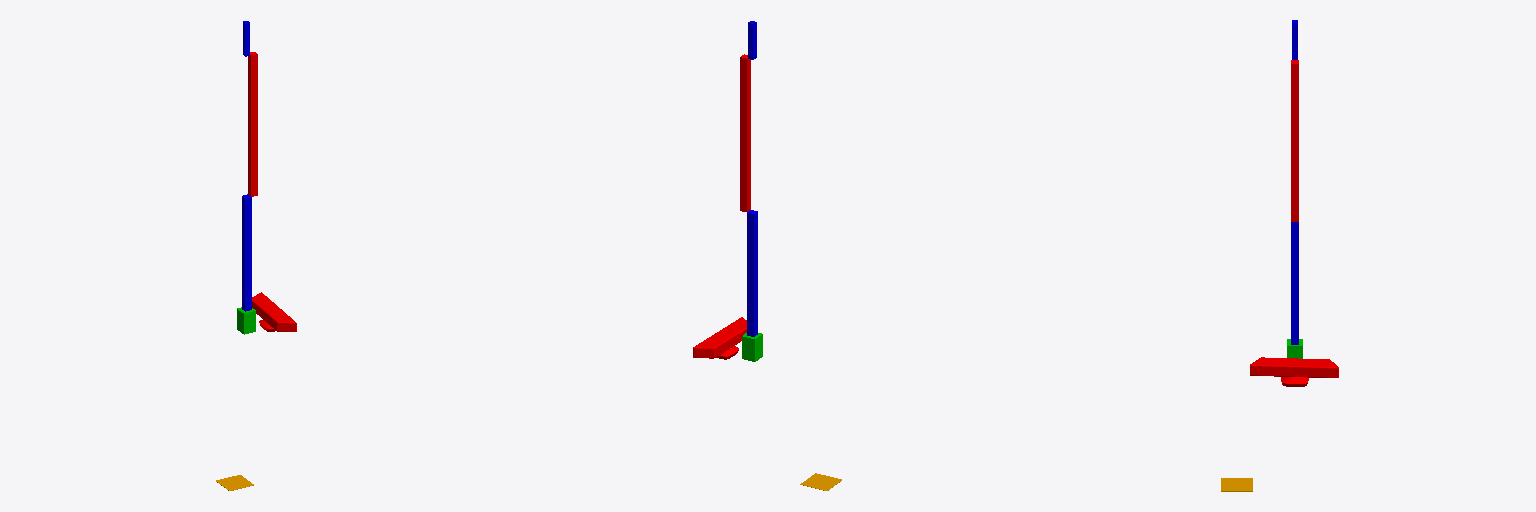
The robot description file, URDF, robot "floatinghead_model":
<?xml version="1.0" ?>
<!-- =================================================================================== -->
<!-- |    This document was autogenerated by xacro from floatinghead_overall.xacro     | -->
<!-- |    EDITING THIS FILE BY HAND IS NOT RECOMMENDED                                 | -->
<!-- =================================================================================== -->
<robot name="floatinghead_model" xmlns:xacro="http://www.ros.org/wiki/xacro">
  <material name="blue1">
    <color rgba="0 0 0.8 1"/>
  </material>
  <!-- <xacro:include filename = "Arm_URDF.xacro" ns="arm"/> -->
  <!-- root link, on the ground just below the model origin -->
  <link name="base_footprint">
    <visual>
      <origin rpy="0 0 0" xyz="0 0 0"/>
      <geometry>
        <box size="0.1 0.1 0.001"/>
      </geometry>
    </visual>
  </link>
  <joint name="base_link_joint" type="fixed">
    <!-- <origin xyz="0.0 0 1.25" rpy="0 0 0" /> -->
    <origin rpy="0 0 0" xyz="0.0 0 0"/>
    <parent link="base_footprint"/>
    <child link="base_link"/>
  </joint>
  <!-- the model -->
  <link name="base_link">
    <inertial>
      <mass value="50"/>
      <!-- <origin xyz="0 0 -1.25" /> -->
      <origin xyz="0 0 0"/>
      <inertia ixx="50.0" ixy="0.0" ixz="0.0" iyy="50.0" iyz="0.0" izz="50.0"/>
    </inertial>
    <visual>
      <geometry>
        <mesh filename="package://floatinghead_description/meshes/OD.dae"/>
      </geometry>
    </visual>
    <collision>
      <origin xyz="0.0 0.0 0"/>
      <geometry>
        <box size="0.9 0.23 .74"/>
      </geometry>
    </collision>
  </link>
  <gazebo reference="base_link">
    <!-- kp and kd for rubber -->
    <kp>1000000.0</kp>
    <kd>100.0</kd>
    <mu1>1.5</mu1>
    <mu2>1.5</mu2>
    <fdir1>1 0 0</fdir1>
    <maxVel>1.0</maxVel>
    <minDepth>0.00</minDepth>
  </gazebo>
  <joint name="camera_joint" type="fixed">
    <axis xyz="0 1 0"/>
    <origin rpy="0 0 0" xyz="0.25 0.18 0.5"/>
    <parent link="base_link"/>
    <child link="camera_link"/>
  </joint>
  <!-- Camera -->
  <link name="camera_link">
    <collision>
      <origin rpy="0 0 0" xyz="0 0 0"/>
      <geometry>
        <box size=".1 .1 .1"/>
      </geometry>
    </collision>
    <visual>
      <origin rpy="0 0 1.5" xyz="0 0 0"/>
      <geometry>
        <mesh filename="package://floatinghead_description/meshes/kinect.dae"/>
      </geometry>
      <material name="red"/>
    </visual>
    <inertial>
      <mass value="1e-5"/>
      <origin rpy="0 0 0" xyz="0 0 0"/>
      <inertia ixx="1e-6" ixy="0" ixz="0" iyy="1e-6" iyz="0" izz="1e-6"/>
    </inertial>
  </link>
  <gazebo>
    <plugin filename="libgazebo_ros_planar_move.so" name="object_controller">
      <commandTopic>cmd_vel</commandTopic>
      <odometryTopic>odom</odometryTopic>
      <odometryFrame>odom</odometryFrame>
      <odometryRate>20.0</odometryRate>
      <robotBaseFrame>base_footprint</robotBaseFrame>
    </plugin>
  </gazebo>
  <gazebo reference="camera_link">
    <sensor name="camera1" type="camera">
      <update_rate>30.0</update_rate>
      <camera name="head">
        <horizontal_fov>1.3962634</horizontal_fov>
        <image>
          <width>800</width>
          <height>800</height>
          <format>R8G8B8</format>
        </image>
        <clip>
          <near>0.02</near>
          <far>300</far>
        </clip>
        <noise>
          <type>gaussian</type>
          <!-- Noise is sampled independently per pixel on each frame.
               That pixel's noise value is added to each of its color
               channels, which at that point lie in the range [0,1]. -->
          <mean>0.0</mean>
          <stddev>0.007</stddev>
        </noise>
      </camera>
      <plugin filename="libgazebo_ros_camera.so" name="camera_controller">
        <alwaysOn>true</alwaysOn>
        <updateRate>0.0</updateRate>
        <cameraName>floatinghead/camera1</cameraName>
        <imageTopicName>image_raw</imageTopicName>
        <cameraInfoTopicName>camera_info</cameraInfoTopicName>
        <frameName>camera_link</frameName>
        <hackBaseline>0.07</hackBaseline>
        <distortionK1>0.0</distortionK1>
        <distortionK2>0.0</distortionK2>
        <distortionK3>0.0</distortionK3>
        <distortionT1>0.0</distortionT1>
        <distortionT2>0.0</distortionT2>
      </plugin>
    </sensor>
  </gazebo>
  <joint name="laser_joint" type="fixed">
    <axis xyz="0 0 0"/>
    <origin rpy="0 0 0" xyz="0.35 0.18 0.48"/>
    <parent link="base_link"/>
    <child link="laser_link"/>
  </joint>
  <link name="laser_link">
    <collision>
      <origin rpy="0 0 0" xyz="0 0 0"/>
      <geometry>
        <sphere radius=".2"/>
      </geometry>
    </collision>
    <visual>
      <origin rpy="0 0 0" xyz="0 0 0"/>
      <geometry>
        <mesh filename="package://floatinghead_description/meshes/lidar.dae"/>
      </geometry>
      <material name="red"/>
    </visual>
  </link>
  <gazebo reference="laser_link">
    <sensor name="head_hokuyo_sensor" type="gpu_ray">
      <pose>0 0 0 0 0 0</pose>
      <visualize>true</visualize>
      <update_rate>40</update_rate>
      <ray>
        <scan>
          <horizontal>
            <samples>720</samples>
            <resolution>1</resolution>
            <min_angle>-3.14159</min_angle>
            <max_angle>3.14159</max_angle>
          </horizontal>
        </scan>
        <range>
          <min>0.10</min>
          <max>30.0</max>
          <resolution>0.01</resolution>
        </range>
        <noise>
          <type>gaussian</type>
          <!-- Noise parameters based on published spec for Hokuyo laser
               achieving "+-30mm" accuracy at range < 10m.  A mean of 0.0m and
               stddev of 0.01m will put 99.7% of samples within 0.03m of the true
               reading. -->
          <mean>0.0</mean>
          <stddev>0.01</stddev>
        </noise>
      </ray>
      <plugin filename="libgazebo_ros_gpu_laser.so" name="gazebo_ros_head_hokuyo_controller">
        <visualize>true</visualize>
        <topicName>/scan</topicName>
        <frameName>laser_link</frameName>
      </plugin>
    </sensor>
  </gazebo>
  <joint name="sonic_joint" type="fixed">
    <axis xyz="0 0 0"/>
    <origin rpy="0 2.25 0" xyz="0.65 0.18 0.3"/>
    <parent link="base_link"/>
    <child link="sonic_link"/>
  </joint>
  <link name="sonic_link">
    <visual>
      <origin rpy="0 0 0" xyz="0 0 0"/>
      <geometry>
        <mesh filename="package://floatinghead_description/meshes/lidar.dae"/>
      </geometry>
    </visual>
  </link>
  <gazebo reference="sonic_link">
    <sensor name="ultrasonic" type="ray">
      <pose>0.25 0 0 0 0 0</pose>
      <update_rate>5</update_rate>
      <ray>
        <scan>
          <horizontal>
            <samples>5</samples>
            <resolution>1.0</resolution>
            <min_angle>-0.25</min_angle>
            <max_angle>0.25</max_angle>
          </horizontal>
          <vertical>
            <samples>5</samples>
            <resolution>1</resolution>
            <min_angle>-0.25</min_angle>
            <max_angle>0.25</max_angle>
          </vertical>
        </scan>
        <range>
          <min>0.01</min>
          <max>0.7</max>
          <resolution>0.01</resolution>
        </range>
      </ray>
      <plugin filename="libgazebo_ros_range.so" name="gazebo_ros_range">
        <gaussianNoise>0.005</gaussianNoise>
        <alwaysOn>true</alwaysOn>
        <updateRate>5</updateRate>
        <topicName>sonic</topicName>
        <frameName>sonic_link</frameName>
        <fov>0.5</fov>
        <radiation>ultrasound</radiation>
      </plugin>
    </sensor>
  </gazebo>
  <joint name="sonic_joint_2" type="fixed">
    <axis xyz="0 0 0"/>
    <origin rpy="0 2.25 1.5" xyz="0.15 0.32 0.25"/>
    <parent link="base_link"/>
    <child link="sonic_link_2"/>
  </joint>
  <link name="sonic_link_2">
    <visual>
      <origin rpy="0 0 0" xyz="0 0 0"/>
      <geometry>
        <mesh filename="package://floatinghead_description/meshes/lidar.dae"/>
      </geometry>
      <material name="red"/>
    </visual>
  </link>
  <gazebo reference="sonic_link_2">
    <sensor name="ultrasonic" type="ray">
      <pose>0.0 0.25 0 0 0 0</pose>
      <update_rate>5</update_rate>
      <ray>
        <scan>
          <horizontal>
            <samples>5</samples>
            <resolution>1.0</resolution>
            <min_angle>-0.25</min_angle>
            <max_angle>0.25</max_angle>
          </horizontal>
          <vertical>
            <samples>5</samples>
            <resolution>1</resolution>
            <min_angle>-0.25</min_angle>
            <max_angle>0.25</max_angle>
          </vertical>
        </scan>
        <range>
          <min>0.01</min>
          <max>0.7</max>
          <resolution>0.01</resolution>
        </range>
      </ray>
      <plugin filename="libgazebo_ros_range.so" name="gazebo_ros_range">
        <gaussianNoise>0.005</gaussianNoise>
        <alwaysOn>true</alwaysOn>
        <updateRate>5</updateRate>
        <topicName>sonic2</topicName>
        <frameName>sonic_link_2</frameName>
        <fov>0.5</fov>
        <radiation>ultrasound</radiation>
      </plugin>
    </sensor>
  </gazebo>
  <joint name="sonic_joint_3" type="fixed">
    <axis xyz="0 0 0"/>
    <origin rpy="0 2.25 -1.5" xyz="0.15 0.07 0.25"/>
    <parent link="base_link"/>
    <child link="sonic_link_3"/>
  </joint>
  <link name="sonic_link_3">
    <visual>
      <origin rpy="0 0 0" xyz="0 0 0"/>
      <geometry>
        <mesh filename="package://floatinghead_description/meshes/lidar.dae"/>
      </geometry>
      <material name="red"/>
    </visual>
  </link>
  <gazebo reference="sonic_link_3">
    <sensor name="ultrasonic" type="ray">
      <pose>0.0 0.25 0 0 0 0</pose>
      <update_rate>5</update_rate>
      <ray>
        <scan>
          <horizontal>
            <samples>5</samples>
            <resolution>1.0</resolution>
            <min_angle>-0.25</min_angle>
            <max_angle>0.25</max_angle>
          </horizontal>
          <vertical>
            <samples>5</samples>
            <resolution>1</resolution>
            <min_angle>-0.25</min_angle>
            <max_angle>0.25</max_angle>
          </vertical>
        </scan>
        <range>
          <min>0.01</min>
          <max>0.7</max>
          <resolution>0.01</resolution>
        </range>
      </ray>
      <plugin filename="libgazebo_ros_range.so" name="gazebo_ros_range">
        <gaussianNoise>0.005</gaussianNoise>
        <alwaysOn>true</alwaysOn>
        <updateRate>5</updateRate>
        <topicName>sonic3</topicName>
        <frameName>sonic_link_3</frameName>
        <fov>0.5</fov>
        <radiation>ultrasound</radiation>
      </plugin>
    </sensor>
  </gazebo>
  <joint name="sonic_joint_4" type="fixed">
    <axis xyz="0 0 0"/>
    <origin rpy="0 -2.25 0" xyz="-0.3 0.18 0.25"/>
    <parent link="base_link"/>
    <child link="sonic_link_4"/>
  </joint>
  <link name="sonic_link_4">
    <visual>
      <origin rpy="0 0 0" xyz="0 0 0"/>
      <geometry>
        <mesh filename="package://floatinghead_description/meshes/lidar.dae"/>
      </geometry>
      <material name="red"/>
    </visual>
  </link>
  <gazebo reference="sonic_link_4">
    <sensor name="ultrasonic" type="ray">
      <pose>-0.25 0.0 0 0 0 0</pose>
      <update_rate>5</update_rate>
      <ray>
        <scan>
          <horizontal>
            <samples>5</samples>
            <resolution>1.0</resolution>
            <min_angle>-0.25</min_angle>
            <max_angle>0.25</max_angle>
          </horizontal>
          <vertical>
            <samples>5</samples>
            <resolution>1</resolution>
            <min_angle>-0.25</min_angle>
            <max_angle>0.25</max_angle>
          </vertical>
        </scan>
        <range>
          <min>0.01</min>
          <max>0.7</max>
          <resolution>0.01</resolution>
        </range>
      </ray>
      <plugin filename="libgazebo_ros_range.so" name="gazebo_ros_range">
        <gaussianNoise>0.005</gaussianNoise>
        <alwaysOn>true</alwaysOn>
        <updateRate>5</updateRate>
        <topicName>sonic4</topicName>
        <frameName>sonic_link_4</frameName>
        <fov>0.5</fov>
        <radiation>ultrasound</radiation>
      </plugin>
    </sensor>
  </gazebo>
  <joint name="imu_joint" type="fixed">
    <axis xyz="0 0 0"/>
    <origin rpy="0 1 0" xyz="0.0 0.18 0.6"/>
    <parent link="base_link"/>
    <child link="imu_link"/>
  </joint>
  <link name="imu_link">
    <!-- <visual>
      <origin xyz="0 0 0" rpy="0 0 0"/>
      <geometry>
    <sphere radius ="0.05"/>
      </geometry>
      <material name="red"/>
    </visual> -->
  </link>
  <gazebo reference="imu_link">
    <gravity>true</gravity>
    <sensor name="imu_sensor" type="imu">
      <always_on>true</always_on>
      <update_rate>100</update_rate>
      <visualize>true</visualize>
      <topic>__default_topic__</topic>
      <plugin filename="libgazebo_ros_imu_sensor.so" name="imu_plugin">
        <topicName>imu</topicName>
        <bodyName>imu_link</bodyName>
        <updateRateHZ>10.0</updateRateHZ>
        <gaussianNoise>0.0</gaussianNoise>
        <xyzOffset>0 0 0</xyzOffset>
        <rpyOffset>0 0 0</rpyOffset>
        <frameName>imu_link</frameName>
      </plugin>
      <pose>0 0 0 0 0 0</pose>
    </sensor>
  </gazebo>
  <gazebo reference="base_link">
    <sensor name="main_bumper" type="contact">
      <!-- <geom>base_link_2_geom</geom> -->
      <!-- <selfCollide>true</selfCollide> -->
      <alwaysOn>true</alwaysOn>
      <updateRate>1000.0</updateRate>
      <material>Gazebo/blue1</material>
      <contact>
        <collision>base_footprint_fixed_joint_lump__base_link_collision</collision>
      </contact>
      <plugin filename="libgazebo_ros_bumper.so" name="gazebo_ros_bumper_controller">
        <bumperTopicName>bumper_vals</bumperTopicName>
        <frameName/>
      </plugin>
    </sensor>
  </gazebo>
  <!--testing adding the arm urdf-->
  <!-- Include all models -->
  <!-- <xacro:include filename="$(find arm_description)/urdf/Arm_URDF.urdf.xacro"/> -->
  <!-- using the models -->
  <!-- <xacro:Arm_URDF base_link="base_link"/>
    <origin xyz="0 0 0" rpy="0 0 0"/>
  </xacro:Arm_URDF> -->
  <!-- <xacro:include filename = "Arm_URDF.xacro" ns="arm"/> -->
  <!-- <joint name="robot_arm" type="fixed">
    <parent link ="base_link"/>
    <child link = "arm.arm_base_bottom"/>
    <origin rpy="0  0  0" xyz="0   0   0"/>
    <axis xyz="0  0  0"/>
    <limit effort="1.0" lower="-2.96705973" upper="2.96705973" velocity="1.0"/>
  </joint> -->
  <!-- <xacro:macro name="arm" params="name base_link:world *origin"> -->
  <!-- Materials -->
  <material name="green">
    <color rgba="0 0.8 0 1"/>
  </material>
  <material name="red">
    <color rgba="1 0 0 0.8"/>
  </material>
  <material name="blue">
    <color rgba="0 0 1 0.8"/>
  </material>
  <!-- Use world link for fixing the robot-->
  <!-- <link name="world"/>
    <inertial>
        <mass value = "0.00001" />
        <origin rpy ="0 0 0" xyz ="0 0 0" />
        <inertia ixx = "0.0" ixy = "0.0" ixz = "0.0" iyy = "0.0" iyz = "0.0" izz = "0.0" />
    </inertial>

  <joint name="fixed" type="fixed">
    <parent link="world"/>
    <child link="arm_base_bottom"/>
  </joint> -->
  <!-- Base Bottom Link -->
  <link name="arm_base_bottom">
    <inertial>
      <mass value="0.00001"/>
      <origin rpy="0 0 0" xyz="0 0 0"/>
      <inertia ixx="0.00" ixy="0.00" ixz="0.00" iyy="0.00" iyz="0.00" izz="0.00"/>
    </inertial>
    <visual>
      <origin rpy="0 0 0" xyz="0 0 0"/>
      <geometry>
        <box size="0.05 0.05 0.01"/>
      </geometry>
      <material name="green"/>
    </visual>
  </link>
  <!-- Base Bottom to Base Joint -->
  <joint name="base_joint" type="revolute">
    <parent link="arm_base_bottom"/>
    <child link="arm_base"/>
    <origin rpy="0 0 0" xyz="0 0 0.005"/>
    <limit effort="5.4917" lower="-3.14159" upper="3.14159" velocity="0.5"/>
    <axis xyz="0 0 1"/>
  </joint>
  <transmission name="trans_bottom_base">
    <type>transmission_interface/SimpleTransmission</type>
    <joint name="base_joint">
      <hardwareInterface>hardware_interface/EffortJointInterface</hardwareInterface>
    </joint>
    <actuator name="motor_base_joint">
      <hardwareInterface>hardware_interface/EffortJointInterface</hardwareInterface>
      <mechanicalReduction>1</mechanicalReduction>
    </actuator>
  </transmission>
  <!-- Arm Base Link -->
  <link name="arm_base">
    <inertial>
      <mass value="0.1"/>
      <origin rpy="0 0 0" xyz="0 0 0.035"/>
      <inertia ixx="0.01" ixy="0.01" ixz="0.01" iyy="0.01" iyz="0.01" izz="0.01"/>
    </inertial>
    <visual>
      <origin rpy="0 0 0" xyz="0 0 0.035"/>
      <geometry>
        <box size="0.05 0.05 0.07"/>
      </geometry>
      <material name="green"/>
    </visual>
  </link>
  <!-- Base to Lower Joint-->
  <joint name="base_lower_joint" type="revolute">
    <parent link="arm_base"/>
    <child link="arm_lower"/>
    <origin rpy="0 0 0" xyz="0 0 0.07"/>
    <limit effort="5.4917" lower="-1.57" upper="1.57" velocity="0.5"/>
    <axis xyz="1 0 0"/>
  </joint>
  <transmission name="trans_base_lower">
    <type>transmission_interface/SimpleTransmission</type>
    <joint name="base_lower_joint">
      <hardwareInterface>hardware_interface/EffortJointInterface</hardwareInterface>
    </joint>
    <actuator name="motor_base_lower_joint">
      <hardwareInterface>hardware_interface/EffortJointInterface</hardwareInterface>
      <mechanicalReduction>1</mechanicalReduction>
    </actuator>
  </transmission>
  <!-- Arm Lower Link -->
  <link name="arm_lower">
    <inertial>
      <mass value="0.1"/>
      <origin rpy="0 0 0" xyz="0 0 0.216"/>
      <inertia ixx="0.01" ixy="0.01" ixz="0.01" iyy="0.01" iyz="0.01" izz="0.01"/>
    </inertial>
    <collision>
      <origin rpy="0 0 0" xyz="0 0 0.216"/>
      <geometry>
        <box size="0.0254 0.0254  0.432"/>
      </geometry>
    </collision>
    <visual>
      <origin rpy="0 0 0" xyz="0 0 0.216"/>
      <geometry>
        <box size="0.0254 0.0254  0.432"/>
      </geometry>
      <material name="blue"/>
    </visual>
  </link>
  <!-- Lower to Upper Joint -->
  <joint name="lower_upper_joint" type="revolute">
    <parent link="arm_lower"/>
    <child link="arm_upper"/>
    <origin rpy="0 0 0" xyz="0 0 0.432"/>
    <limit effort="5.4917" lower="-3.14159" upper="3.14159" velocity="0.5"/>
    <axis xyz="1 0 0"/>
  </joint>
  <transmission name="trans_lower_upper">
    <type>transmission_interface/SimpleTransmission</type>
    <joint name="lower_upper_joint">
      <hardwareInterface>hardware_interface/EffortJointInterface</hardwareInterface>
    </joint>
    <actuator name="motor_lower_upper_joint">
      <hardwareInterface>hardware_interface/EffortJointInterface</hardwareInterface>
      <mechanicalReduction>1</mechanicalReduction>
    </actuator>
  </transmission>
  <!-- Arm Upper Link -->
  <link name="arm_upper">
    <inertial>
      <mass value="0.1"/>
      <origin rpy="0 0 0" xyz="0.0252 0 0.27"/>
      <inertia ixx="0.01" ixy="0.01" ixz="0.01" iyy="0.01" iyz="0.01" izz="0.01"/>
    </inertial>
    <collision>
      <origin rpy="0 0 0" xyz="0.0252 0 0.27"/>
      <geometry>
        <box size="0.0254 0.0254 0.54"/>
      </geometry>
    </collision>
    <visual>
      <origin rpy="0 0 0" xyz="0.0252 0 0.27"/>
      <geometry>
        <box size="0.0254 0.0254 0.54"/>
      </geometry>
      <material name="red"/>
    </visual>
  </link>
  <!-- Upper to Pointer Joint -->
  <joint name="upper_pointer_joint" type="revolute">
    <parent link="arm_upper"/>
    <child link="pointer"/>
    <origin rpy="0 0 0" xyz="0 0 0.54"/>
    <limit effort="5.4917" lower="-3.14159" upper="3.14159" velocity="0.5"/>
    <axis xyz="1 0 0"/>
  </joint>
  <transmission name="trans_upper_pointer">
    <type>transmission_interface/SimpleTransmission</type>
    <joint name="upper_pointer_joint">
      <hardwareInterface>hardware_interface/EffortJointInterface</hardwareInterface>
    </joint>
    <actuator name="motor_upper_pointer_joint">
      <hardwareInterface>hardware_interface/EffortJointInterface</hardwareInterface>
      <mechanicalReduction>1</mechanicalReduction>
    </actuator>
  </transmission>
  <!-- Pointer Link -->
  <link name="pointer">
    <inertial>
      <mass value="0.1"/>
      <origin rpy="0 0 0" xyz="0 0 0.063"/>
      <inertia ixx="0.01" ixy="0.01" ixz="0.01" iyy="0.01" iyz="0.01" izz="0.01"/>
    </inertial>
    <collision>
      <origin rpy="0 0 0" xyz="0 0 0.063"/>
      <geometry>
        <box size="0.02 0.02 0.126"/>
      </geometry>
    </collision>
    <visual>
      <origin rpy="0 0 0" xyz="0 0 0.063"/>
      <geometry>
        <box size="0.02 0.02 0.126"/>
      </geometry>
      <material name="blue"/>
    </visual>
  </link>
  <gazebo>
    <plugin filename="libgazebo_ros_control.so" name="gazebo_ros_control">
    </plugin>
  </gazebo>
  <joint name="robot_arm" type="fixed">
    <parent link="base_link"/>
    <child link="arm_base_bottom"/>
    <origin rpy="0  0  0" xyz="0.15 0.18 0.48"/>
    <axis xyz="0  0  0"/>
    <limit effort="1.0" lower="-2.96705973" upper="2.96705973" velocity="1.0"/>
  </joint>
</robot>

--- Render facts (derived) ---
3 views of the same robot in one strip: view 1: azimuth 30°, elevation 25°; view 2: azimuth 150°, elevation 25°; view 3: azimuth 270°, elevation 25° (orthographic).
Model floatinghead_model with 14 links and 13 joints (4 revolute, 9 fixed), rooted at base_footprint, posed every joint at zero.
Visible links, largest first — view 1: arm_upper, arm_lower, camera_link; view 2: arm_upper, arm_lower, camera_link; view 3: camera_link, arm_upper, arm_lower.
Link boxes in pixels (bbox=[...]): arm_upper: bbox=[248, 52, 257, 196]; arm_lower: bbox=[242, 194, 251, 311]; camera_link: bbox=[252, 292, 296, 331]; arm_upper: bbox=[740, 54, 750, 211]; arm_lower: bbox=[747, 210, 757, 336]; camera_link: bbox=[693, 317, 746, 359]; camera_link: bbox=[1250, 357, 1338, 386]; arm_upper: bbox=[1291, 60, 1298, 221]; arm_lower: bbox=[1291, 222, 1298, 344].
Size in the robot's own frame: 0.3401 by 0.3671 by 1.65 metres.
Meshes: 3 distinct files referenced, 1 mesh visuals loaded (1 Collada DAE); not drawn: 6 (reference not matched to a file when rendering).
